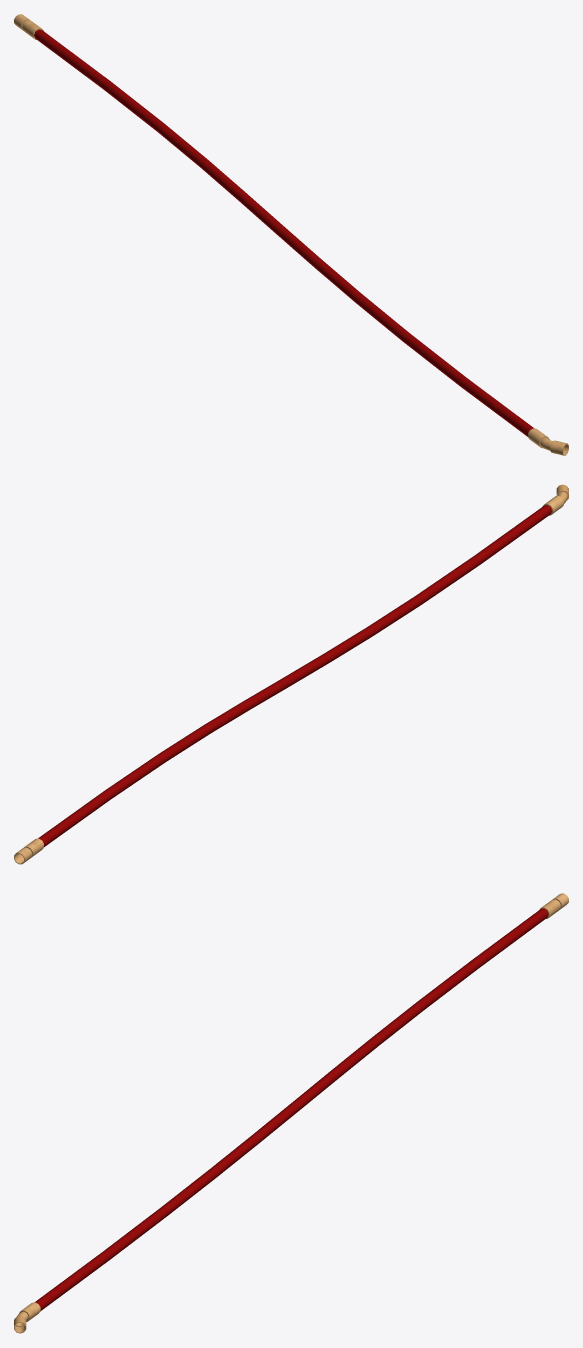
Rendered from wirered.glb.
3 views of the same model, one above another, from view 1: azimuth 30°, elevation 25°; view 2: azimuth 150°, elevation 25°; view 3: azimuth 330°, elevation 25° (orthographic).
Visible parts, largest first — view 1: wire red3, wire red10, wire red4, wire red9, wire red5, wire red6, wire red8, wire red7, nozzle red_01; view 2: wire red3, wire red10, wire red4, wire red9, wire red5, wire red6, wire red8, wire red7, wire red2, wire red1, wire red11; view 3: wire red3, wire red10, wire red4, wire red9, wire red5, wire red6, wire red8, wire red7.
Part boxes in pixels (x1=…): wire red3: x1=401, y1=332, x2=465, y2=385; wire red10: x1=102, y1=80, x2=163, y2=131; wire red4: x1=353, y1=293, x2=408, y2=340; wire red9: x1=156, y1=123, x2=206, y2=167; wire red5: x1=312, y1=257, x2=360, y2=301; wire red6: x1=274, y1=224, x2=319, y2=265; wire red8: x1=199, y1=159, x2=244, y2=200; wire red7: x1=237, y1=191, x2=281, y2=232; nozzle red_01: x1=528, y1=428, x2=568, y2=455; wire red3: x1=416, y1=555, x2=481, y2=603; wire red10: x1=105, y1=753, x2=166, y2=798; wire red4: x1=367, y1=595, x2=423, y2=635; wire red9: x1=160, y1=724, x2=211, y2=761; wire red5: x1=324, y1=627, x2=373, y2=662; wire red6: x1=283, y1=653, x2=330, y2=686; wire red8: x1=205, y1=700, x2=251, y2=733; wire red7: x1=244, y1=677, x2=290, y2=709; wire red2: x1=474, y1=530, x2=516, y2=563; wire red1: x1=510, y1=505, x2=551, y2=538; wire red11: x1=70, y1=790, x2=112, y2=823; wire red3: x1=103, y1=1207, x2=168, y2=1260; wire red10: x1=418, y1=959, x2=479, y2=1009; wire red4: x1=161, y1=1168, x2=217, y2=1215; wire red9: x1=372, y1=1001, x2=425, y2=1045; wire red5: x1=210, y1=1133, x2=261, y2=1176; wire red6: x1=254, y1=1100, x2=301, y2=1141; wire red8: x1=333, y1=1036, x2=380, y2=1077; wire red7: x1=294, y1=1069, x2=340, y2=1108.
Size of the model in its own units: 0.0178 by 0.0382 by 0.903.
1 material, 1 textured.
